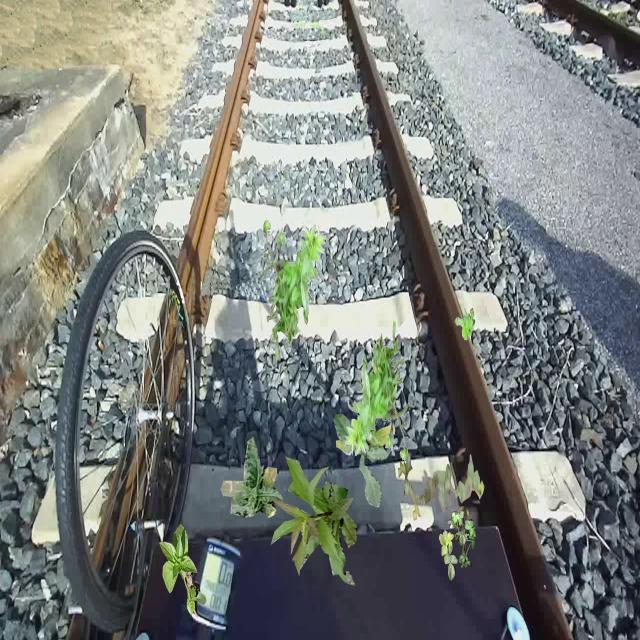Plant: (269, 456, 358, 586), (345, 320, 410, 463), (262, 217, 326, 360), (333, 383, 396, 508), (398, 452, 484, 520), (220, 435, 284, 518), (159, 523, 207, 618), (439, 507, 476, 580), (455, 308, 476, 341)
